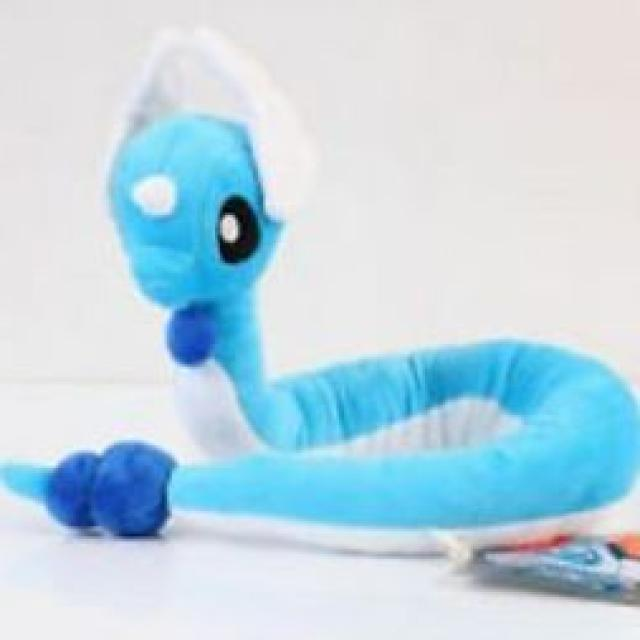Dragonair: (36, 94, 633, 540)
